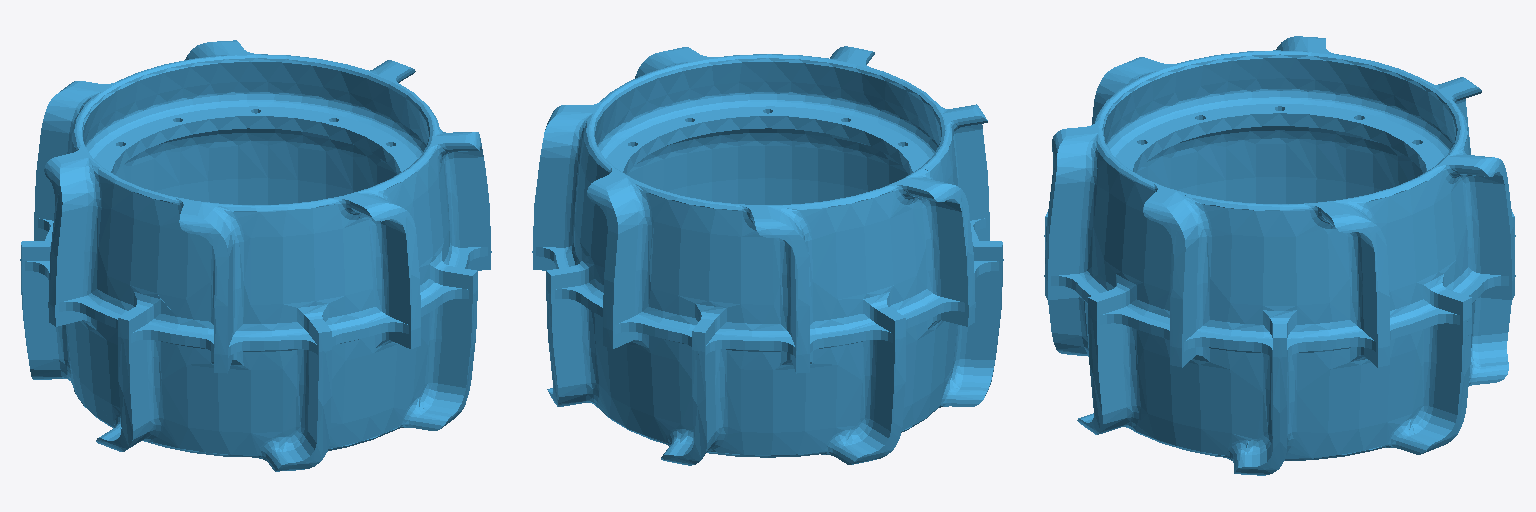
URDF robot description (RoRover_V0.1):
<robot name="RoRover_V0.1">

      <link name='chassis'>
        <pose>0 0 0   0 0 0</pose>

        <collision name='collision'>
          <geometry>
            <mesh filename="package://rorover_skid_steer/meshes/RoRo Chassis_visual.stl" />
          </geometry>
          <surface>
            <bounce>
              <restitution_coefficient>0.35</restitution_coefficient>
              <threshold>0.025</threshold>
            </bounce>
          </surface>
        </collision>

        <visual name='visual'>
          <geometry>
            <mesh filename="package://rorover_skid_steer/meshes/RoRo Chassis_visual.stl" />
          </geometry>
        </visual>

      <inertial>
        <mass value="17.199" />
        <origin xyz="0.0 -0.002719 -0.125605" rpy="-0.003491 0.0 0.0" />
        <inertia
 	  ixx="0.763546264" ixy="0.0" ixz="0.0"
	  iyy="1.213658318" iyz="0.0"
	  izz="0.465806016" />
      </inertial>
      </link>

      <link name="left_rear_wheel">
        <pose>0.33 -0.075 .110   0.0 1.5707 0.0</pose>
        <collision name="collision">
          <geometry>
            <cylinder length="0.117" radius="0.1" />
          </geometry>
          <surface>
            <bounce>
              <restitution_coefficient>0.35</restitution_coefficient>
              <threshold>0.025</threshold>
            </bounce>
          </surface>
        </collision>
        <visual name="visual">
          <geometry>
            <mesh filename="package://rorover_skid_steer/meshes/wheel_unders.dae" />
          </geometry>
        </visual>
        <inertial>
          <mass value="0.454"/>
	  <origin zyx="0.0 0.0 0.001805" rpy="0.0 0.0 0.5167919915" />
	  <inertia 
	    ixx="0.001983016" ixy="0.0" ixz="0.0"
	    iyy="0.001983016" iyz="0.0"
	    izz="0.00297862" />
        </inertial>
      </link>

      <link name="right_rear_wheel">
        <pose>-0.33 -0.075 0.110   0.0 -1.5707 0.0</pose>
        <collision name="collision">
          <geometry>
            <cylinder length="0.117" radius="0.1" />
          </geometry>
          <surface>
            <bounce>
              <restitution_coefficient>0.35</restitution_coefficient>
              <threshold>0.025</threshold>
            </bounce>
          </surface>
        </collision>
        <visual name="visual">
          <geometry>
            <mesh filename="package://rorover_skid_steer/meshes/wheel_unders.dae" />
          </geometry>
        </visual>
        <inertial>
          <mass value="0.454"/>
	  <origin zyx="0.0 0.0 0.001805" rpy="0.0 0.0 0.5167919915" />
	  <inertia 
	    ixx="0.001983016" ixy="0.0" ixz="0.0"
	    iyy="0.001983016" iyz="0.0"
	    izz="0.00297862" />
        </inertial>
      </link>

      <link name="left_front_wheel">
        <pose>0.33 -0.075 -0.370   0.0 1.5707 0.0</pose>
        <collision name="collision">
          <geometry>
            <cylinder length="0.117" radius="0.1" />
          </geometry>
          <surface>
            <bounce>
              <restitution_coefficient>0.35</restitution_coefficient>
              <threshold>0.025</threshold>
            </bounce>
          </surface>
        </collision>
        <visual name="visual">
          <geometry>
            <mesh filename="package://rorover_skid_steer/meshes/wheel_unders.dae" />
          </geometry>
        </visual>
        <inertial>
          <mass value="0.454"/>
	  <origin zyx="0.0 0.0 0.001805" rpy="0.0 0.0 0.5167919915" />
	  <inertia 
	    ixx="0.001983016" ixy="0.0" ixz="0.0"
	    iyy="0.001983016" iyz="0.0"
	    izz="0.00297862" />
        </inertial>
      </link>

      <link name="right_front_wheel">
        <pose>-0.33 -0.075 -0.370   0.0 -1.5707 0.0</pose>
        <collision name="collision">
          <geometry>
            <cylinder length="0.117" radius="0.1" />
          </geometry>
          <surface>
            <bounce>
              <restitution_coefficient>0.35</restitution_coefficient>
              <threshold>0.025</threshold>
            </bounce>
          </surface>
        </collision>
        <visual name="visual">
          <geometry>
            <mesh filename="package://rorover_skid_steer/meshes/wheel_unders.dae" />
          </geometry>
        </visual>
        <inertial>
          <mass value="0.454"/>
	  <origin zyx="0.0 0.0 0.001805" rpy="0.0 0.0 0.5167919915" />
	  <inertia 
	    ixx="0.001983016" ixy="0.0" ixz="0.0"
	    iyy="0.001983016" iyz="0.0"
	    izz="0.00297862" />
        </inertial>
      </link>

      <link name="hook">
        <pose>-0.010 0.0 0.0   0 0 0</pose>

        <collision name="collision">
          <geometry>
            <mesh filename="package:rorover_skid_steer/meshes/Hook_Arm_300_collision.stl" />
          </geometry>
          <surface>
            <bounce>
              <restitution_coefficient>0.35</restitution_coefficient>
              <threshold>0.025</threshold>
            </bounce>
          </surface>
        </collision>

        <visual name="visual">
          <geometry>
            <mesh filename="package:rorover_skid_steer/meshes/Hook_Arm_300_visual.stl" />
          </geometry>
        </visual>

        <inertial>
          <mass value="0.694" />
	  <origin xyz="0.010 0.027234 -0.182083" rpy="0.31468 0.0 0.0" />
	  <inertia 
	    ixx="0.011472852" ixy="0.0" ixz="0.0"
	    iyy="0.010056381" iyz="0.0"
	    izz="0.001549328" />
        </inertial>
      </link>

      <joint type="continuous" name="left_rear_wheel_hinge">
	<origin xyz="0.0 0.0 0.0" rpy="0.0 0.0 0.0" />
        <child link="left_rear_wheel" />
        <parent link="chassis" />
        <axis xyz="1 0 0" />
        <dynamics damping="0.1" />
      </joint>

      <joint type="continuous" name="right_rear_wheel_hinge">
	<origin xyz="0.0 0.0 0.0" rpy="0.0 0.0 0.0" />
        <child link="right_rear_wheel" />
        <parent link="chassis" />
        <axis xyz="1 0 0" />
        <dynamics damping="0.1" />
      </joint>

      <joint type="continuous" name="left_front_wheel_hinge">
	<origin xyz="0.0 0.0 0.0" rpy="0.0 0.0 0.0" />
        <child link="left_front_wheel" />
        <parent link="chassis" />
        <axis xyz="1 0 0" />
        <dynamics damping="0.1" />
      </joint>

      <joint type="continuous" name="right_front_wheel_hinge">
	<origin xyz="0.0 0.0 0.0" rpy="0.0 0.0 0.0" />
        <child link="right_front_wheel" />
        <parent link="chassis" />
        <axis xyz="1 0 0" />
        <dynamics damping="0.1" />
      </joint>


      <joint type="revolute" name="hook_hinge">
	<origin xyz="0.0 0.0 0.0" rpy="0.0 0.0 0.0" />
        <child link="hook" />
        <parent link="chassis" />
        <axis xyz="1 0 0" />
        <limit lower="0.0" upper="2.617993878" effort="1" velocity="1.0" />
      </joint>
</robot>

--- Facts derived from the render (not from the file) ---
The picture shows the robot from 3 angles, left to right: view 1: azimuth 30°, elevation 25°; view 2: azimuth 150°, elevation 25°; view 3: azimuth 270°, elevation 25°; orthographic projection.
Robot: RoRover_V0.1 — 6 links, 5 joints (1 revolute, 4 continuous); root link chassis; default pose: all joints at 0.
Visible links, largest first — view 1: left_rear_wheel; view 2: left_rear_wheel; view 3: left_rear_wheel.
Boxes of the visible links, x1=… form: left_rear_wheel: x1=20, y1=40, x2=491, y2=471; left_rear_wheel: x1=532, y1=46, x2=1003, y2=465; left_rear_wheel: x1=1044, y1=36, x2=1515, y2=475.
Size in the robot's own frame: 0.2 by 0.1962 by 0.1176 metres.
4 mesh visuals loaded from 2 distinct referenced files (1 Collada DAE); not drawn: 1 (reference not matched to a file when rendering), 1 (reference in a form the renderer does not follow; not among the files counted above).
